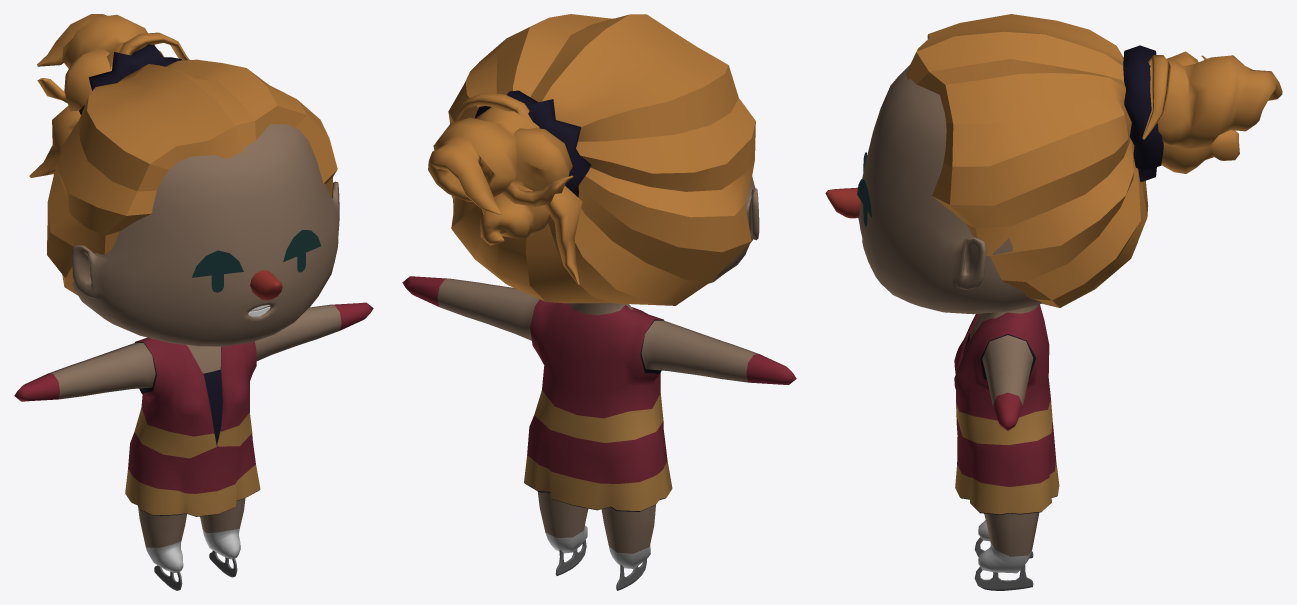
Rendered from skatersFigure.fbx.
3 renders of one model, left to right at view 1: azimuth 30°, elevation 25°; view 2: azimuth 150°, elevation 25°; view 3: azimuth 270°, elevation 25°, orthographic. The views are drawn at different scales.
Visible parts, largest first — view 1: figure; view 2: figure; view 3: figure.
Part boxes in pixels (bbox=[...]): figure: bbox=[14, 14, 373, 590]; figure: bbox=[402, 14, 796, 590]; figure: bbox=[825, 14, 1282, 590].
Bounding box in the file's own units: 142 × 189 × 144.
